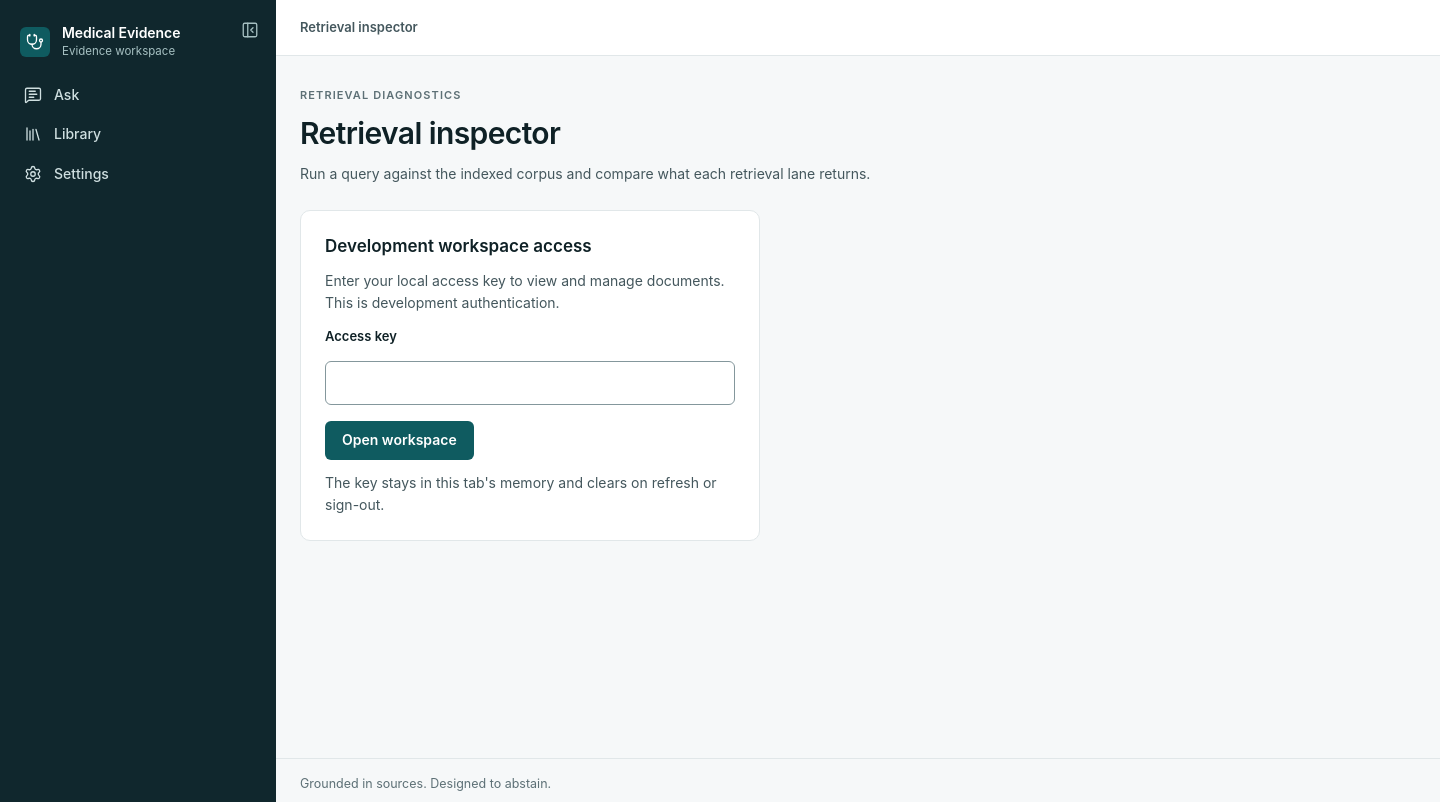
it: reports an empty budget result
Step 1. Type "test-key" into the password field labelled "Access key" → (530, 383), box [325,361,735,406]
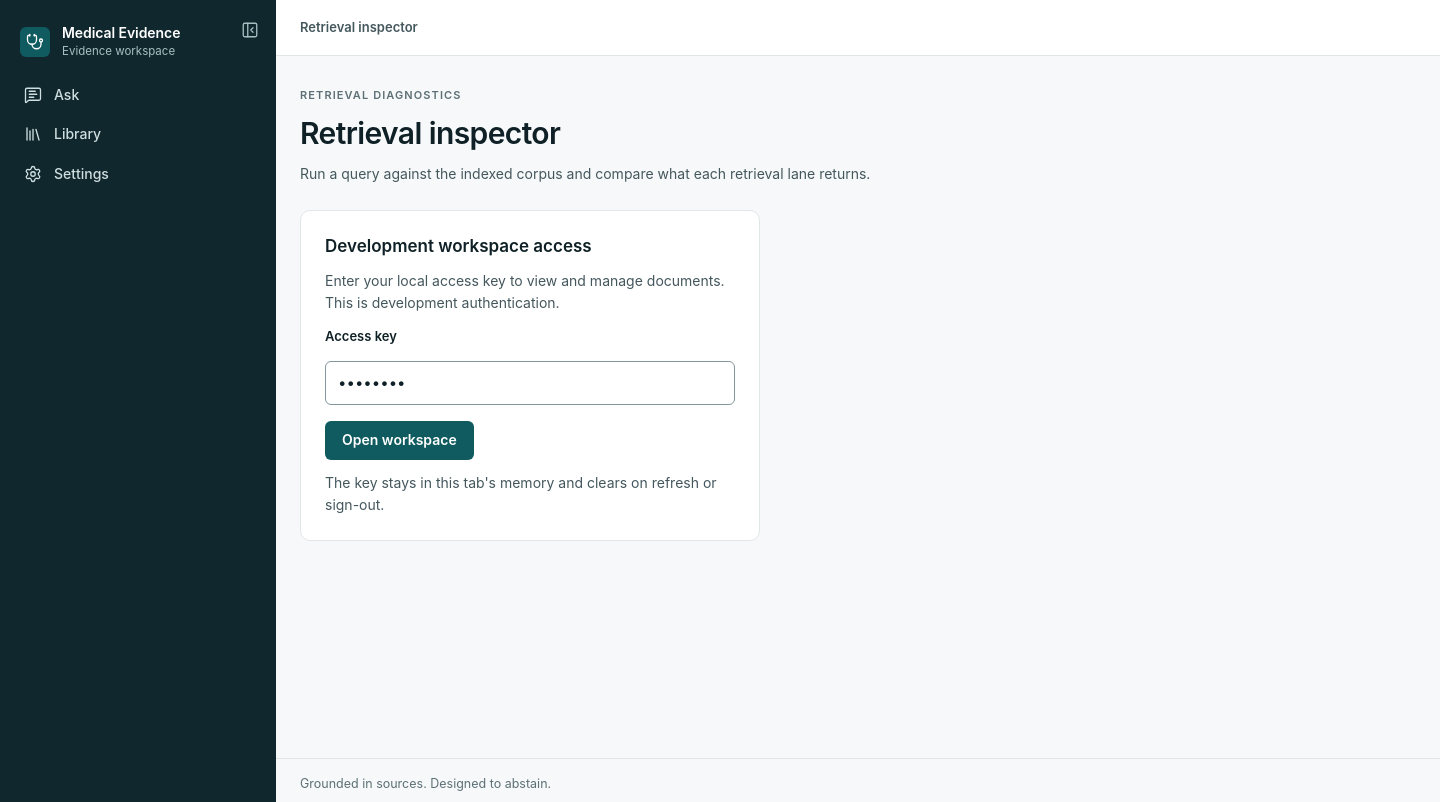
Step 2. Click the button "Open workspace" → (399, 440), box [325,421,474,460]
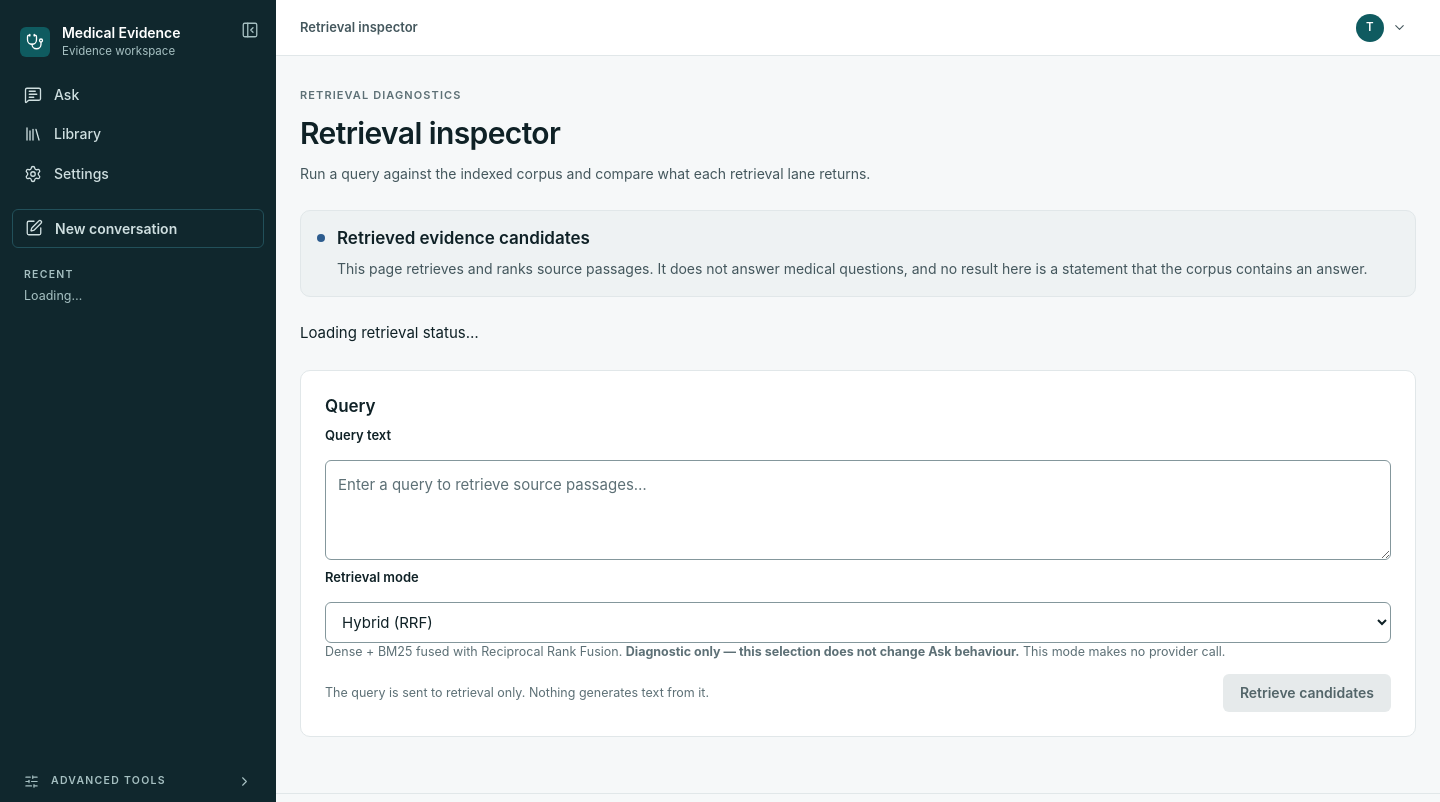
Now the text box labelled "Query text" is shown, box [325,460,1391,560]
Step 3. Select "Hybrid + reranking + evidence" in the dropdown labelled "Retrieval mode" → (858, 623), box [325,602,1391,643]
(page scrolled)
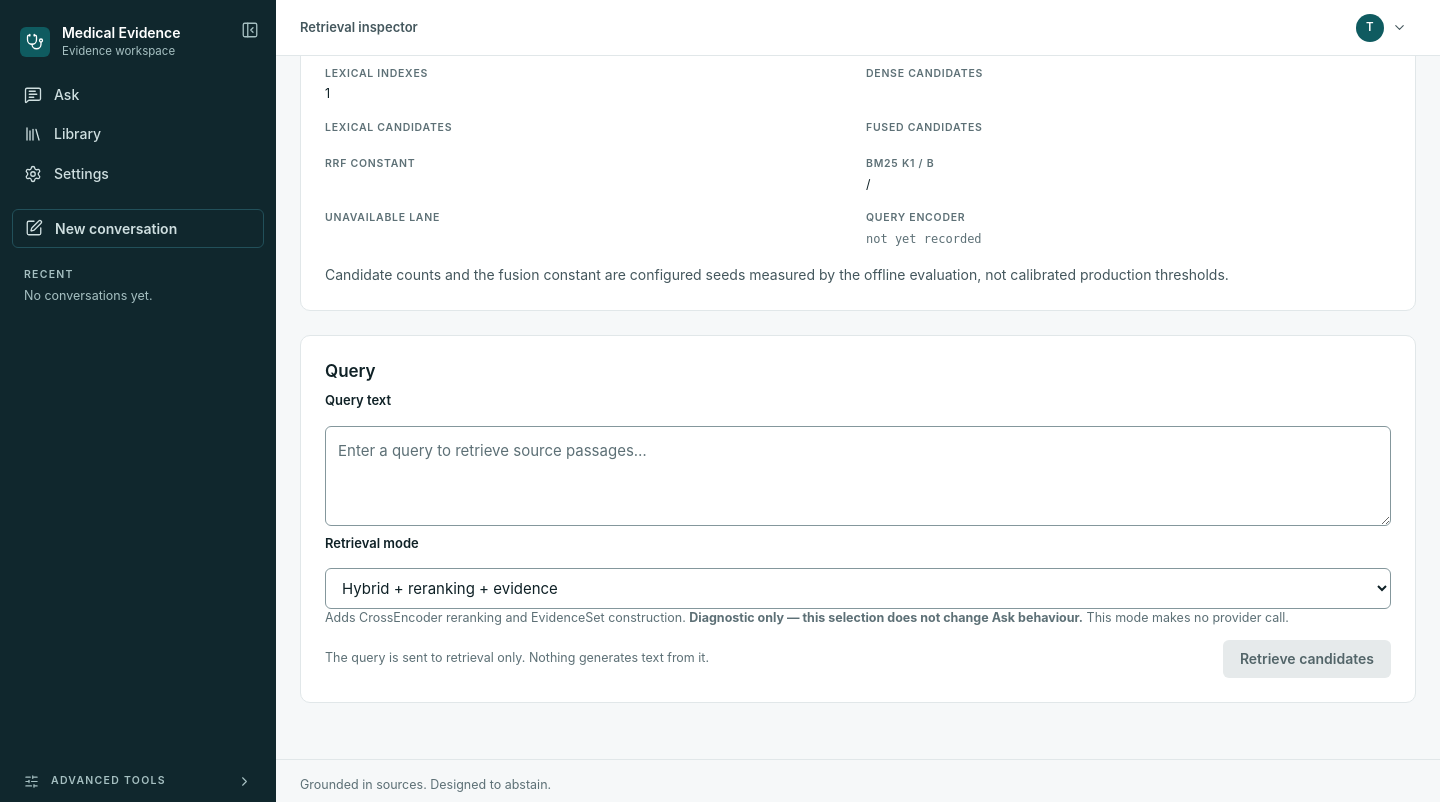
Step 4. Type "HLA-B27" into the text box labelled "Query text" → (858, 476), box [325,426,1391,526]
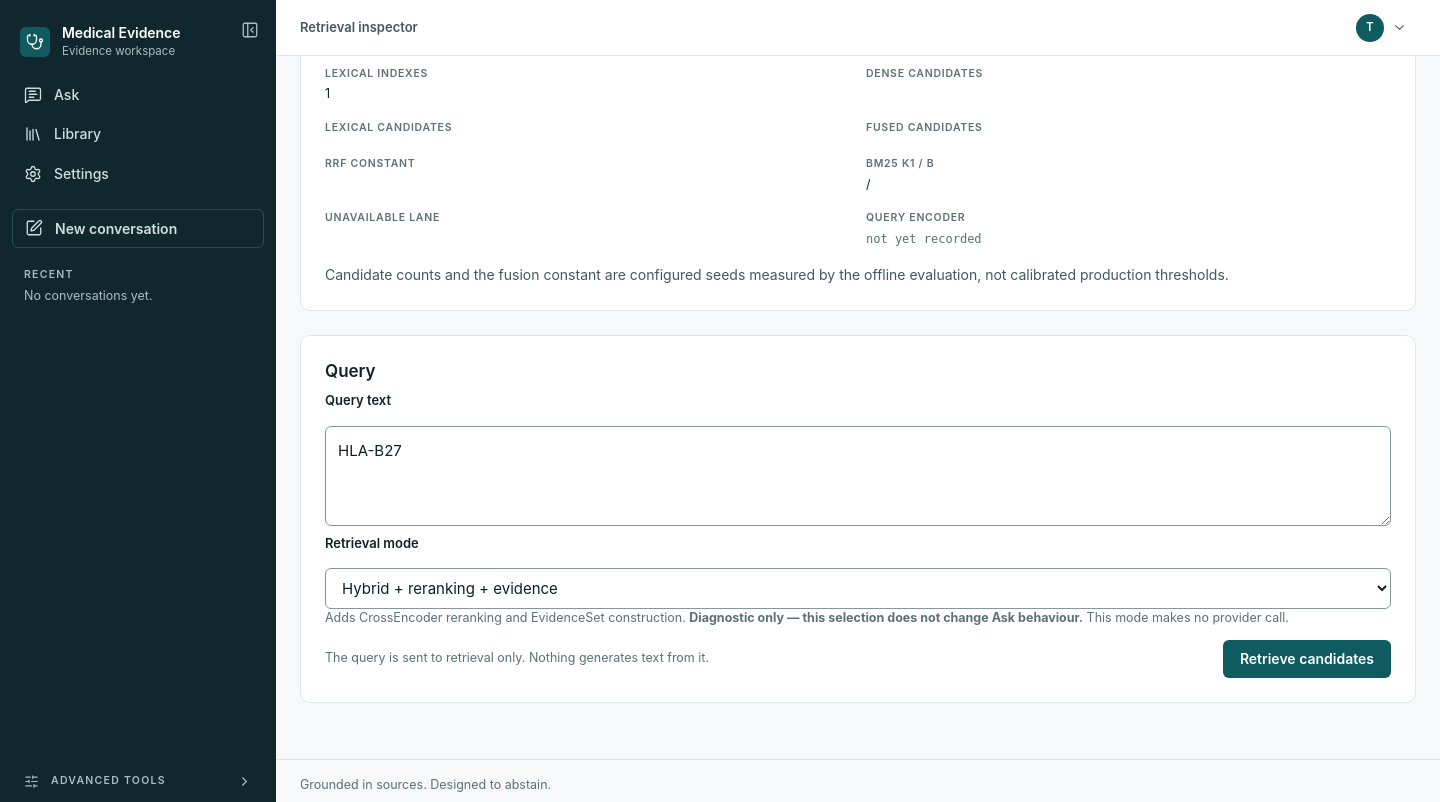
Step 5. Click the button "Retrieve candidates" → (1307, 659), box [1223,640,1391,678]
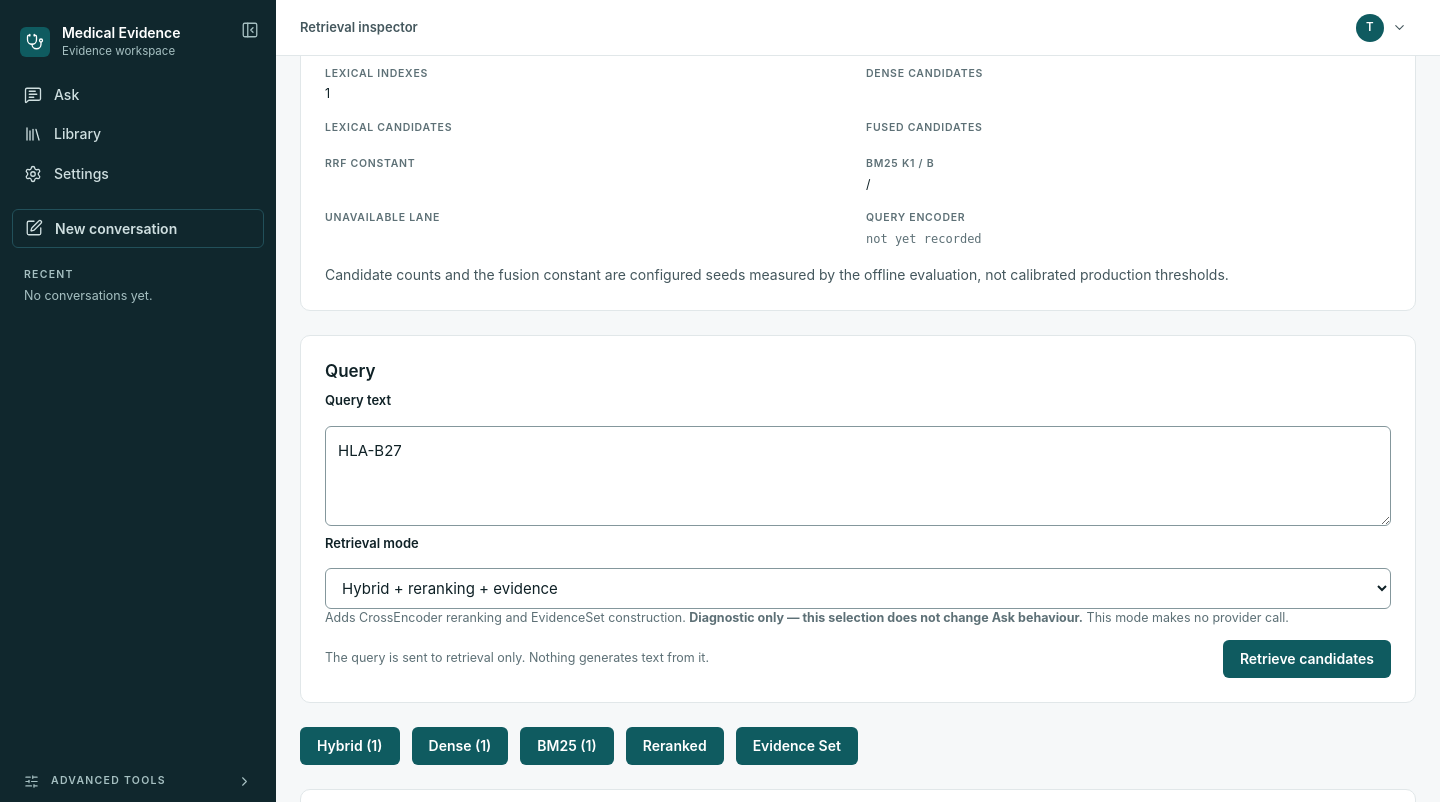
Step 6. Click the button "Evidence Set" → (797, 746), box [736,727,858,765]
(page scrolled)
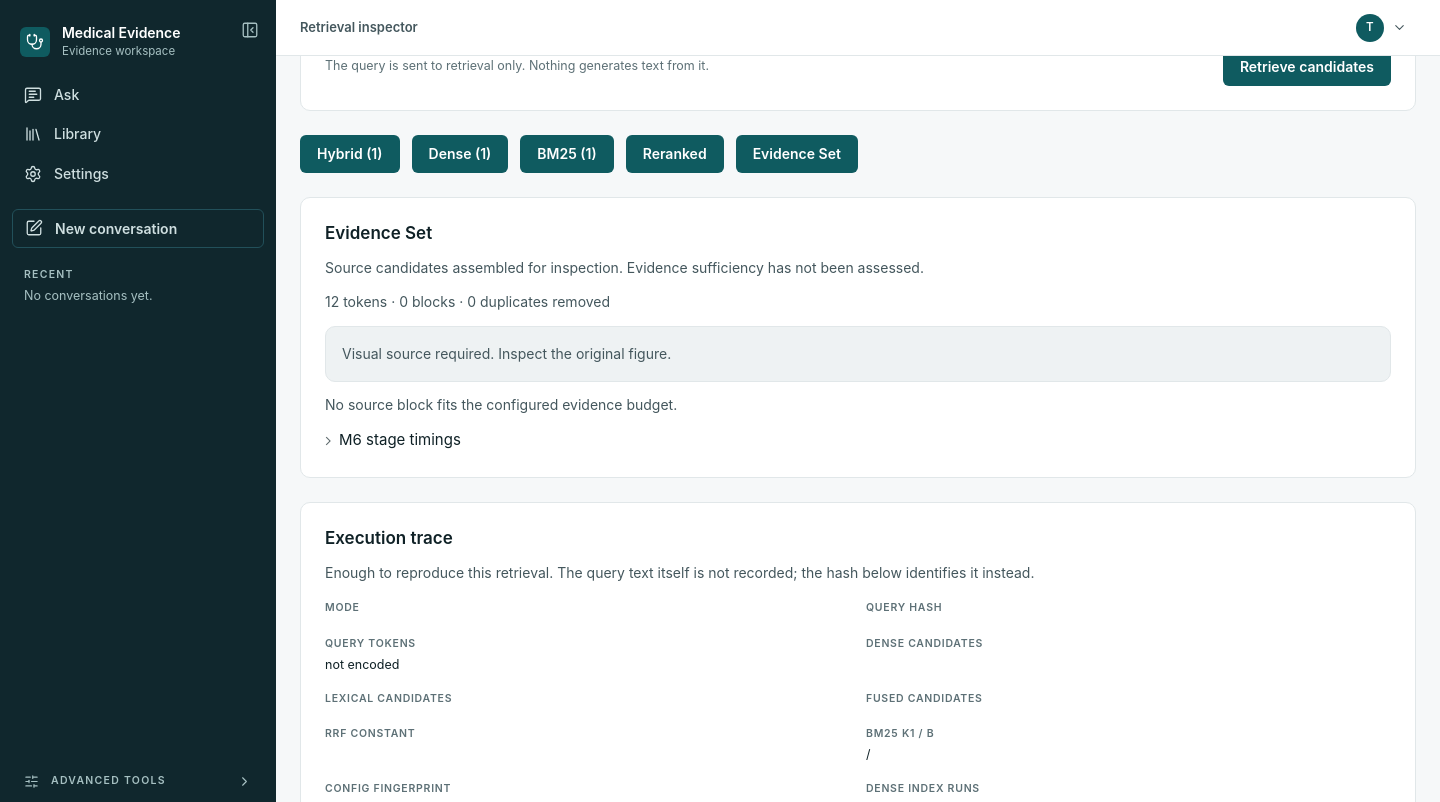
Now the text "No source block fits the configured evidence budget." is shown, box [325,396,677,413]
